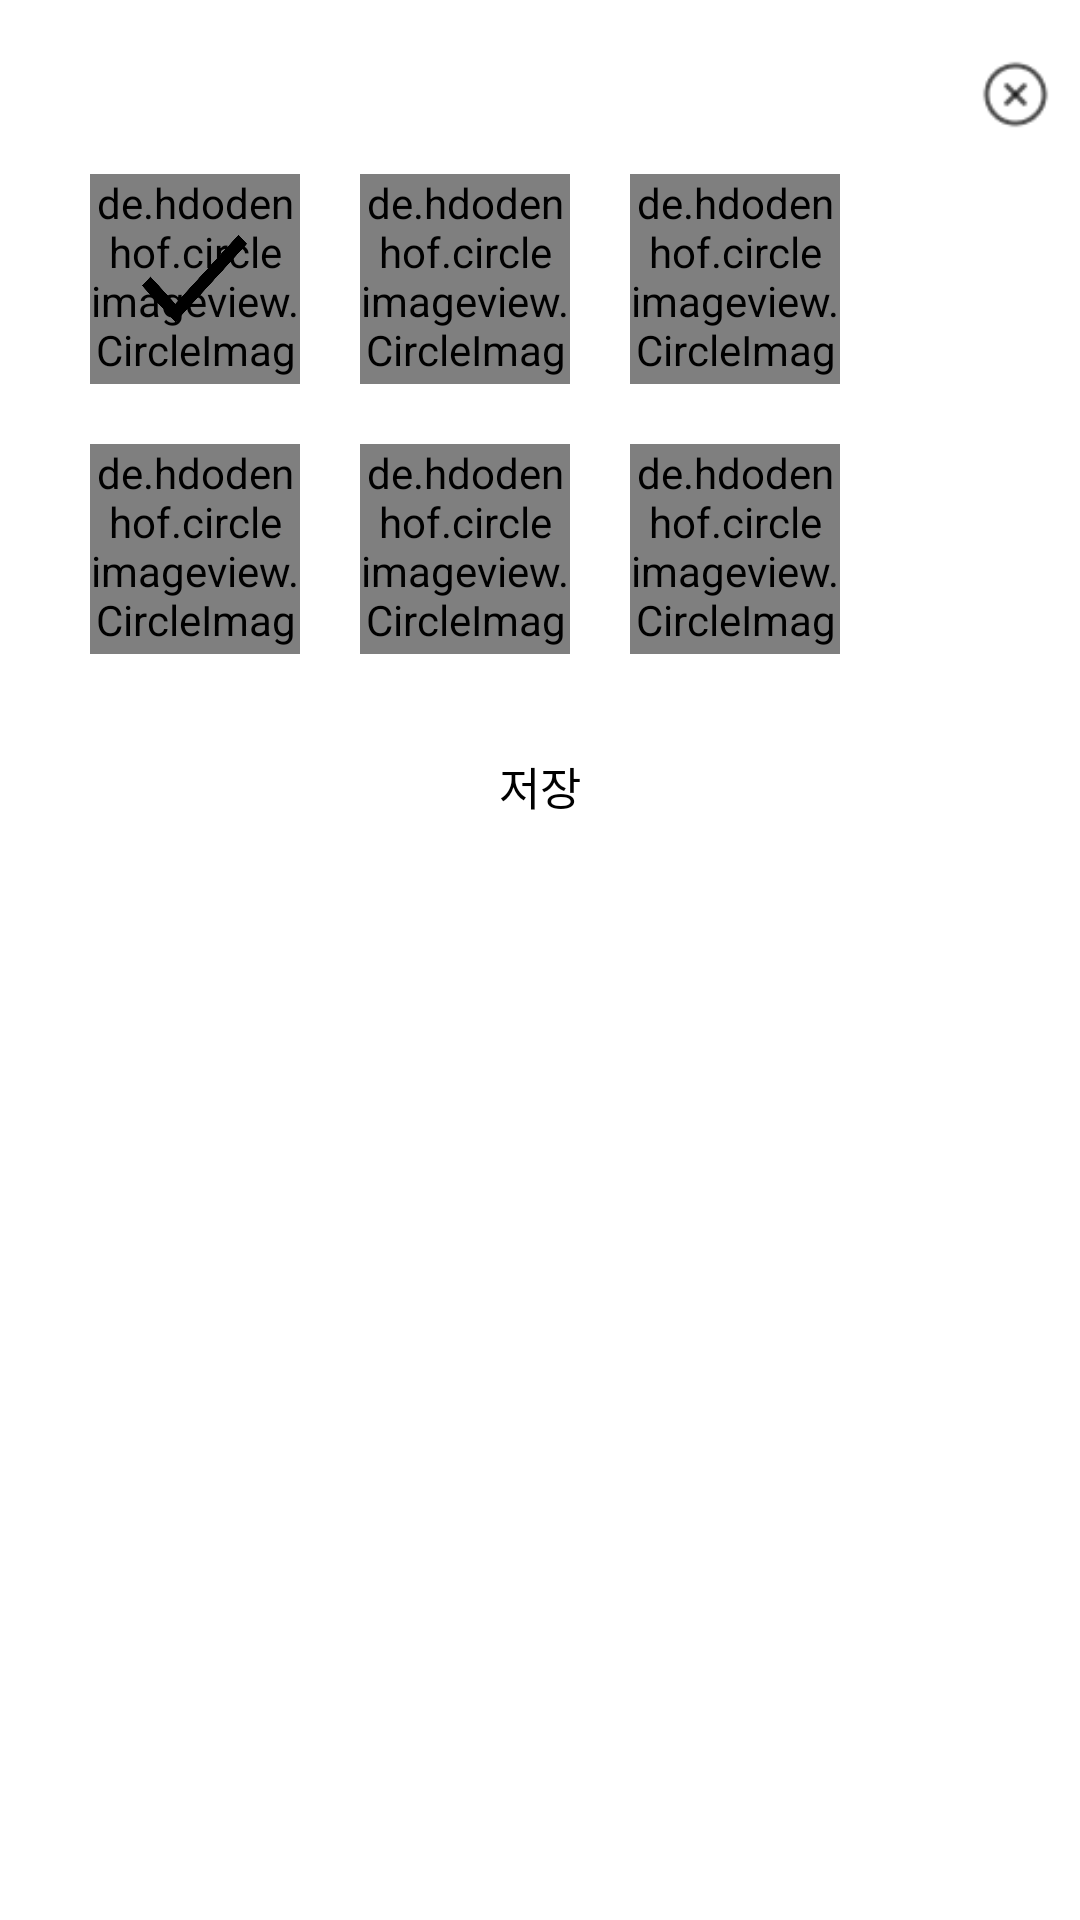

Icons on this 1080×1920 Android screen, each with its box as box(x1, y1, x2, y2):
cancel: box(983, 62, 1048, 127)
theme check: box(142, 235, 247, 326)
